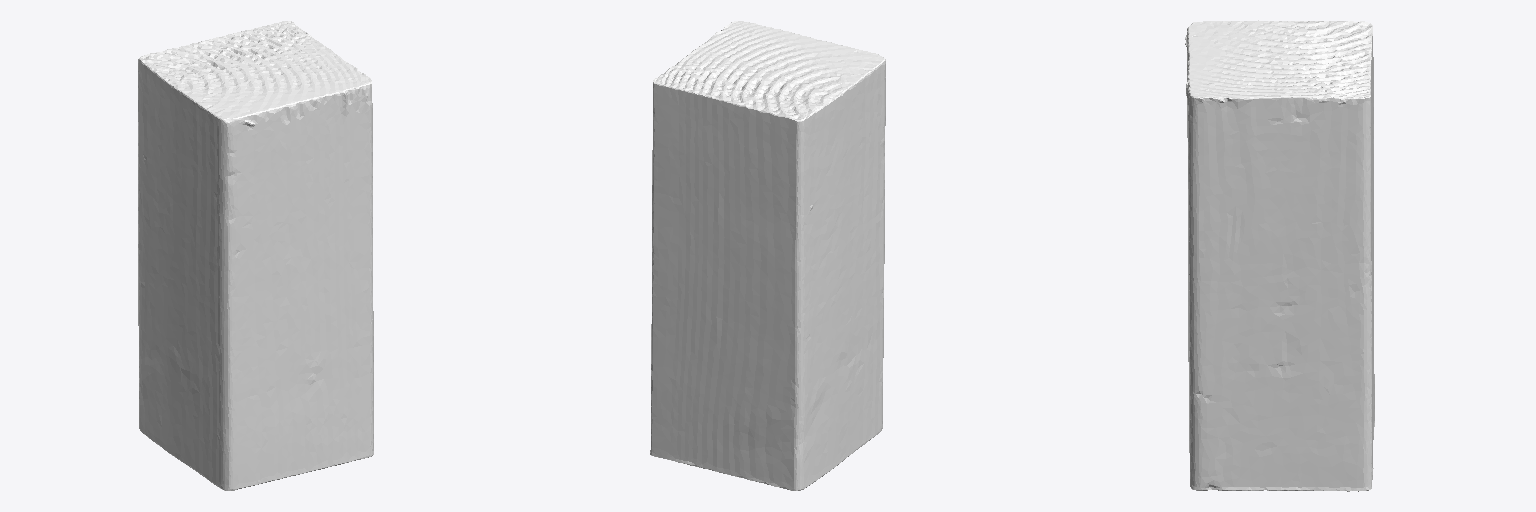
URDF robot description (bowl):
<robot name="bowl">
	<link name="base_link">
		<visual>
			<origin xyz="0.014272485683301438 0.045728422080814235 -0.026772347862895073" rpy="0.0 0.0 0.0" />
			<geometry>
				<mesh filename="024_bowl/google_16k/textured.obj" scale="1 1 1" />
			</geometry>
			<material name="texture">
				<color rgba="1.0 1.0 1.0 1.0" />
			</material>
		</visual>
		<collision>
			<origin xyz="0.014272485683301438 0.045728422080814235 -0.026772347862895073" rpy="0.0 0.0 0.0" />
			<geometry>
				<mesh filename="024_bowl/google_16k/textured_vhacd.obj" scale="1 1 1" />
			</geometry>
		</collision>
		<inertial>
			<mass value="0.147" />
			<inertia ixx="1e-3" ixy="0.0" ixz="0.0" iyy="1e-3" iyz="0.0" izz="1e-3" />
		</inertial>
	</link>
</robot>

--- What the picture shows (computed from the rendered views, not written in the file) ---
Views: 3 orthographic renders of the robot side by side, from view 1: azimuth 30°, elevation 25°; view 2: azimuth 150°, elevation 25°; view 3: azimuth 270°, elevation 25°.
Robot: bowl — 1 links, 0 joints (none); root link base_link; default pose: all joints at 0.
Links seen in each view (by area): view 1: base_link; view 2: base_link; view 3: base_link.
Link boxes in pixels (x1,y1,x2,y2): base_link: (138, 21, 373, 490); base_link: (650, 21, 885, 490); base_link: (1185, 20, 1374, 491).
Size in the robot's own frame: 0.0906 by 0.0899 by 0.206 metres.
Meshes: 1 distinct files referenced, 1 mesh visuals loaded (1 OBJ).